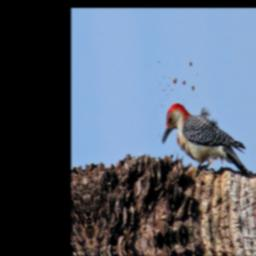Woodpecker: (158, 88, 254, 198)
